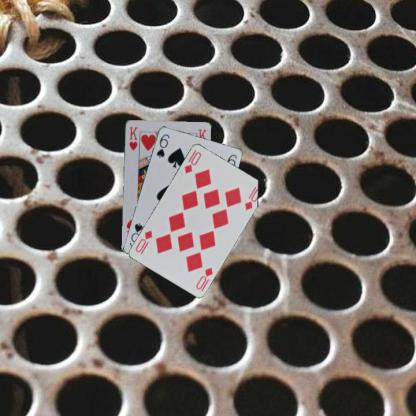10d: (182, 149, 203, 175), (193, 264, 214, 290)
6s: (154, 131, 170, 159)
Kh: (126, 124, 138, 152)
